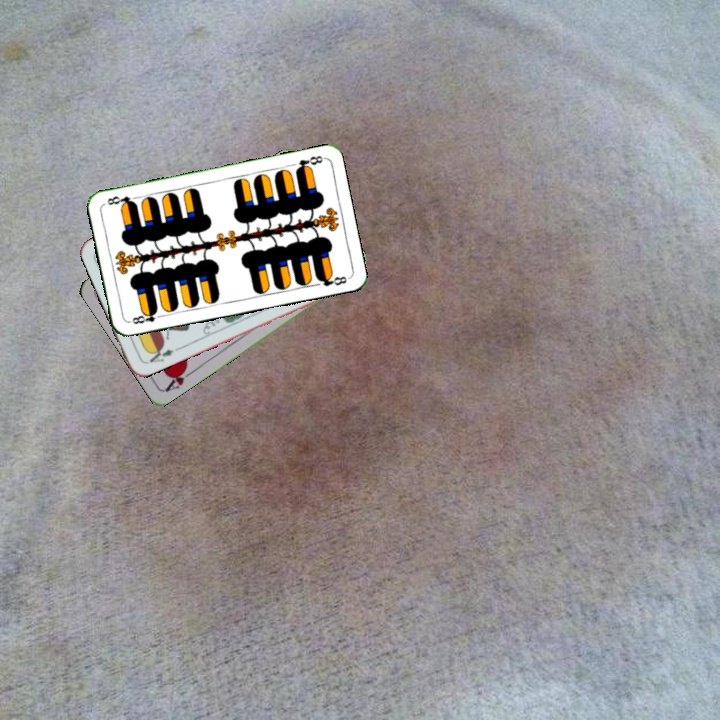E8: (125, 306, 166, 327), (291, 151, 326, 174)
EA: (142, 343, 181, 367)
HA: (161, 362, 198, 394)
